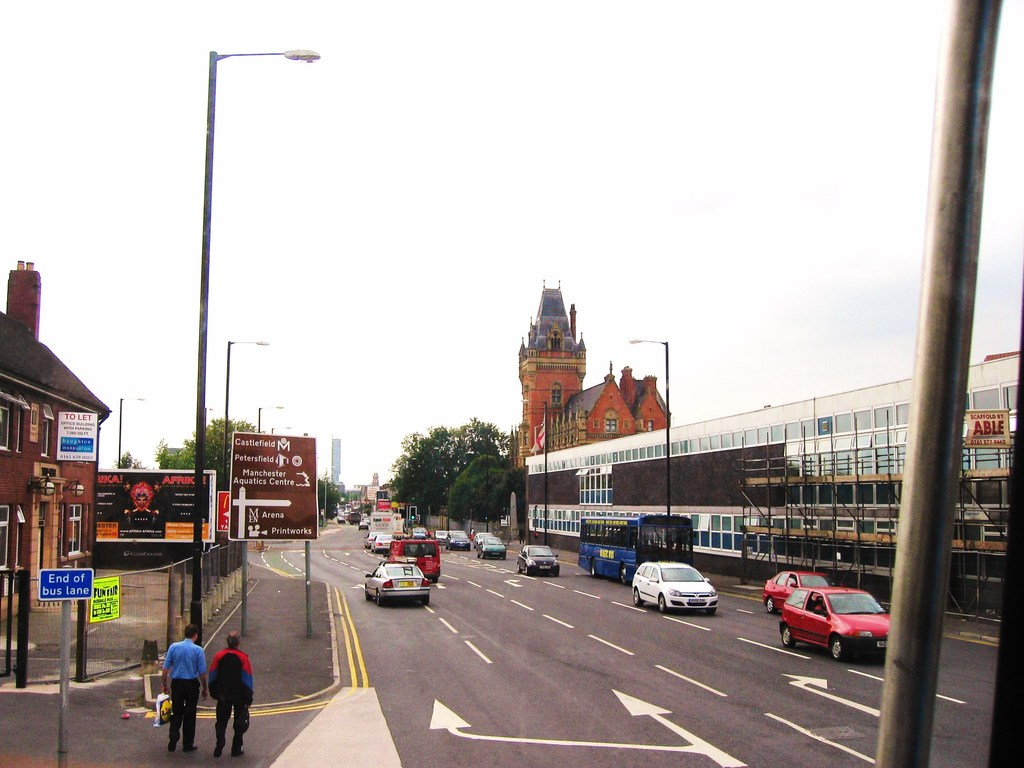Car: (761, 580, 896, 665), (629, 561, 718, 613), (360, 558, 431, 608), (759, 568, 840, 611), (517, 543, 559, 577), (337, 506, 371, 528), (473, 534, 504, 558), (443, 528, 472, 549), (370, 534, 396, 549), (362, 529, 375, 545), (410, 526, 427, 538), (478, 533, 497, 543), (433, 528, 446, 540)
